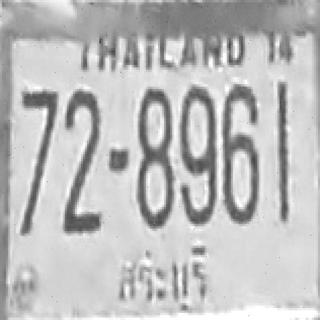N02: (64, 88, 100, 208), (62, 118, 100, 231), (64, 89, 100, 197)
N06: (221, 82, 259, 221)
N07: (20, 89, 57, 171)
N08: (136, 87, 172, 226)
N09: (178, 84, 217, 224)
P60: (106, 242, 213, 312)
